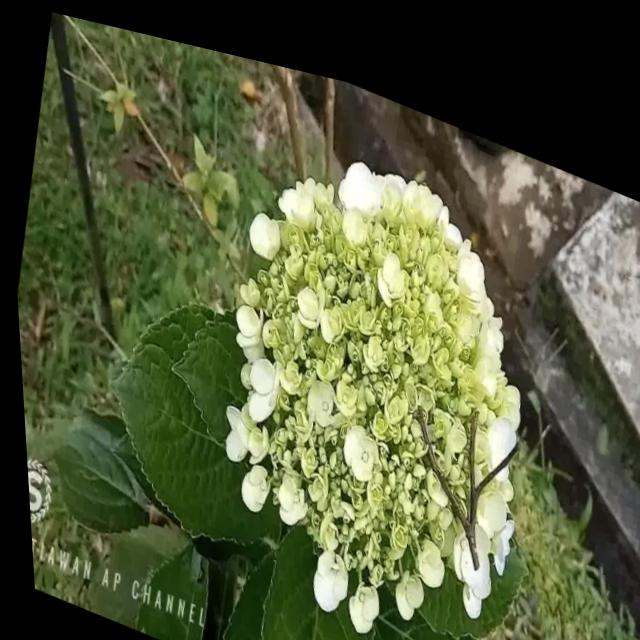Flower: (170, 78, 576, 640)
